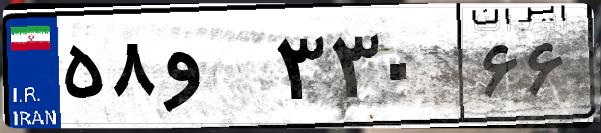0: (385, 28, 445, 110)
3: (270, 28, 330, 110), (330, 28, 385, 110)
5: (57, 26, 110, 100)
6: (475, 38, 525, 113), (525, 38, 570, 115)
8: (110, 28, 158, 98)
و: (158, 20, 270, 120)
